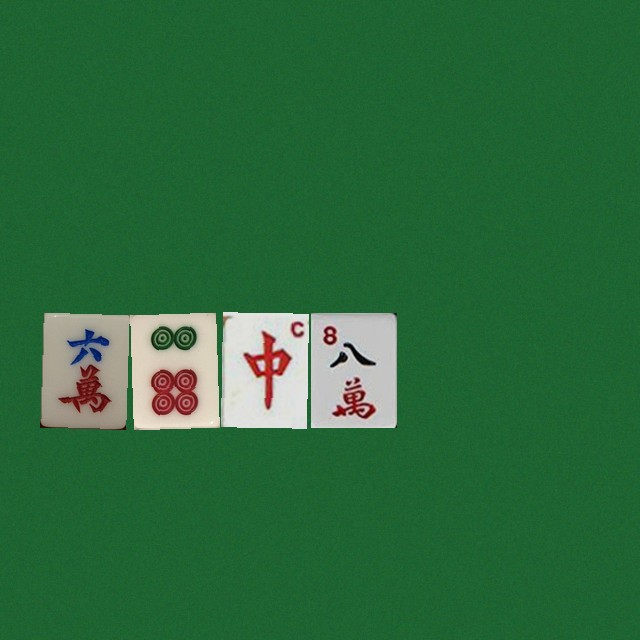tile: (40, 312, 126, 427), (130, 312, 216, 427), (220, 312, 306, 427), (310, 312, 396, 427)
